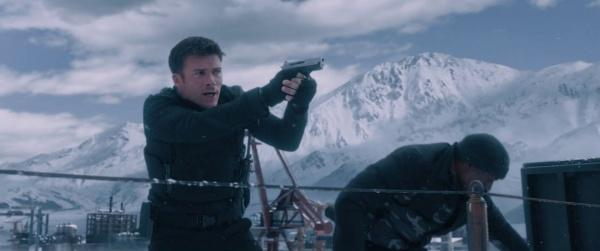Gun: (280, 57, 326, 80)
